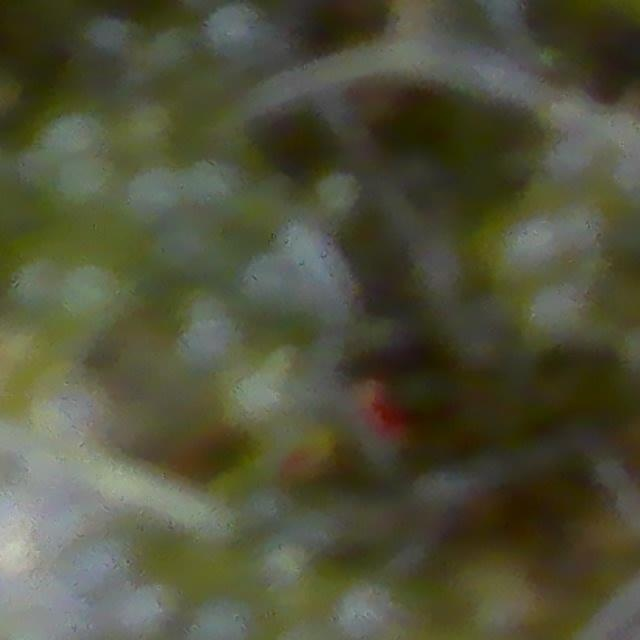SeaGrape: (167, 287, 250, 374), (113, 159, 193, 236), (49, 146, 125, 224), (187, 595, 255, 640)
